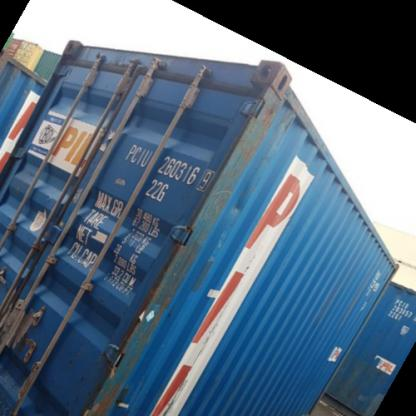Damage: (209, 69, 288, 189), (165, 190, 231, 296), (116, 293, 178, 373), (78, 368, 136, 414)
